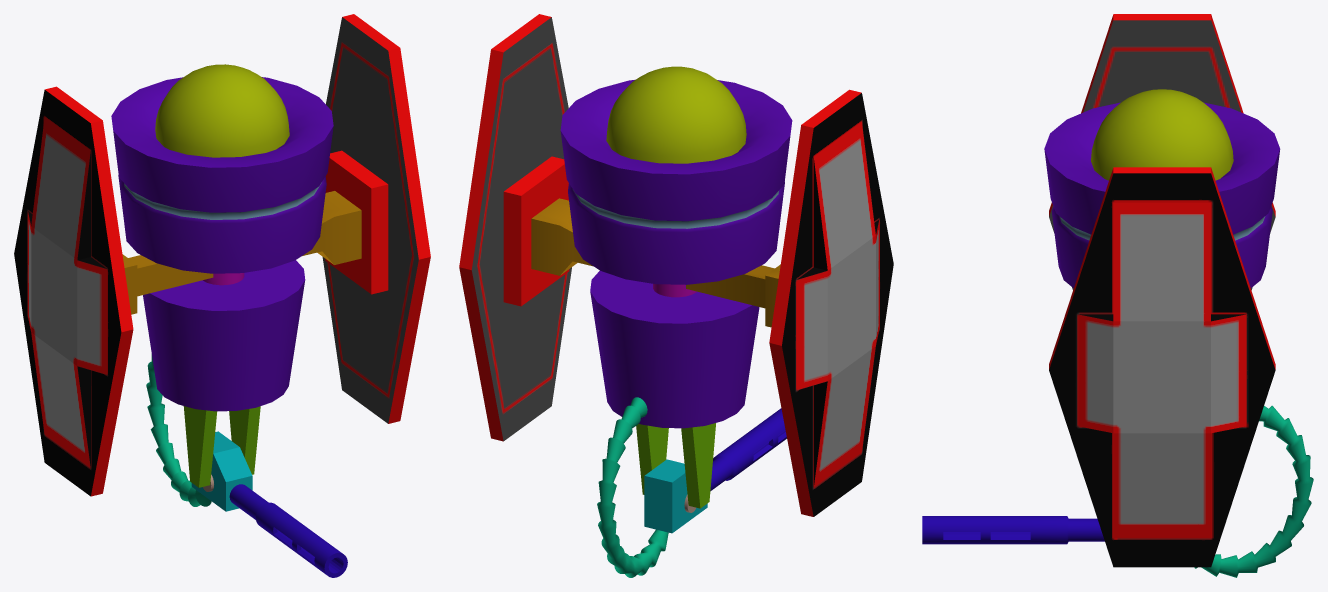
File: zakoteki1.fbx
The picture shows the model from 3 angles, left to right: view 1: azimuth 30°, elevation 25°; view 2: azimuth 150°, elevation 25°; view 3: azimuth 270°, elevation 25°; orthographic projection. The views are drawn at different scales.
Visible parts, largest first — view 1: pCube5, pCube1, pCylinder1, pCylinder2, pSphere1, pCube6, pCylinder4, pCylinder3, pCube4, pCube7, pCube3; view 2: pCube5, pCube1, pCylinder1, pCylinder2, pSphere1, pCube6, pCylinder3, pCube4, pCylinder4, pCube7, pCube3; view 3: pCube1, pCylinder1, pCube5, pSphere1, pCylinder4, pCylinder3.
Part boxes in pixels (box(x1,y1,x2,y2)): pCube5: box(14, 86, 133, 496); pCube1: box(322, 14, 430, 423); pCylinder1: box(111, 77, 333, 273); pCylinder2: box(143, 260, 305, 411); pSphere1: box(155, 64, 289, 157); pCube6: box(122, 191, 361, 314); pCylinder4: box(229, 484, 347, 577); pCylinder3: box(146, 354, 211, 506); pCube4: box(191, 431, 252, 511); pCube7: box(183, 406, 217, 487); pCube3: box(229, 406, 260, 474); pCube5: box(769, 89, 893, 516); pCube1: box(459, 14, 571, 441); pCylinder1: box(560, 79, 792, 284); pCylinder2: box(590, 270, 759, 428); pSphere1: box(606, 66, 746, 163); pCube6: box(531, 198, 780, 327); pCylinder3: box(597, 397, 668, 577); pCube4: box(644, 459, 707, 533); pCylinder4: box(710, 408, 786, 491); pCube7: box(681, 423, 715, 508); pCube3: box(636, 424, 668, 494); pCube1: box(1049, 167, 1275, 567); pCylinder1: box(1044, 102, 1280, 288); pCube5: box(1049, 14, 1275, 290); pSphere1: box(1091, 89, 1233, 180); pCylinder4: box(922, 516, 1104, 544); pCylinder3: box(1194, 405, 1313, 577).
Size of the model in its own units: 12.62 by 16.43 by 12.06.
